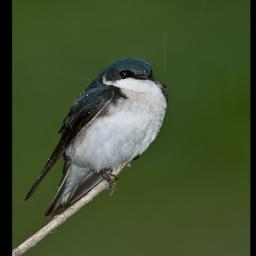Swallow: (24, 53, 172, 219)
